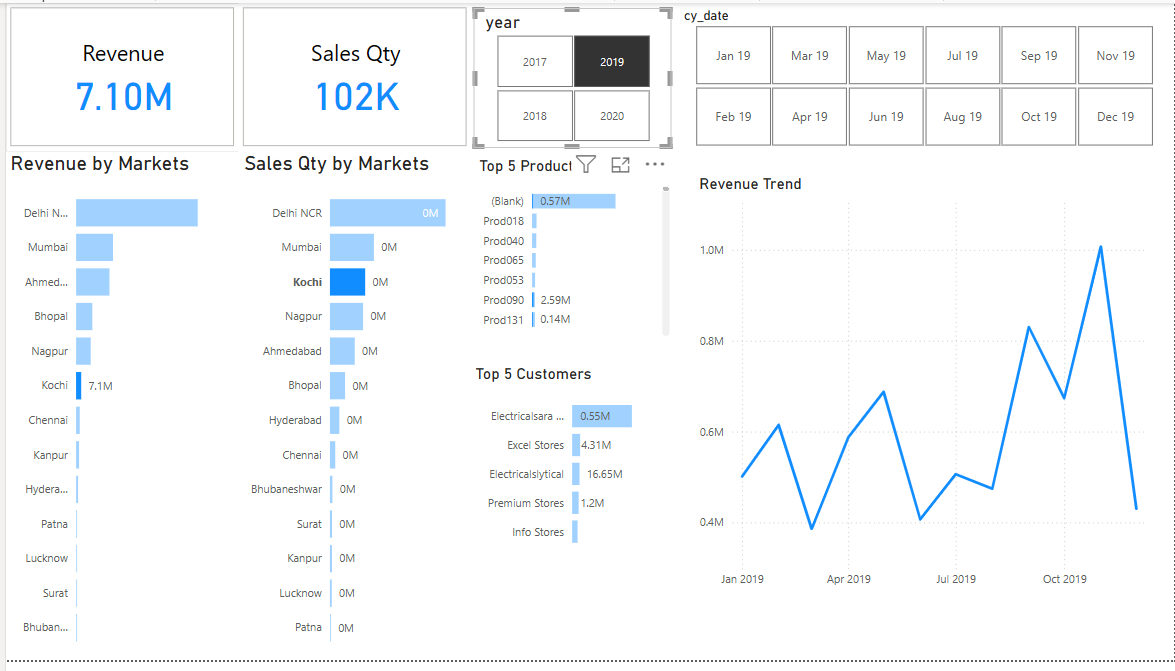

This screenshot's page, from the dashboard's own definition file:
{"tool":"powerbi","page":{"name":"Page 1","canvas":[1280,720],"ordinal":0},"visuals":[{"type":"cardVisual","fields":{"Data":["Base Measures.Revenue"]},"box":[0,0,255.7,162.9],"z":0},{"type":"cardVisual","fields":{"Data":["Base Measures.Sales Qty"]},"box":[254.3,0,255.7,162.9],"z":1000},{"type":"barChart","title":"Revenue by Markets","fields":{"Y":["Base Measures.Revenue"],"Category":["sales markets.markets_name"]},"box":[0,162.9,257.1,557.1],"z":2000},{"type":"barChart","title":"Sales Qty by Markets","fields":{"Category":["sales markets.markets_name"],"Y":["Base Measures.Sales Qty"]},"box":[255.7,162.9,255.7,557.1],"z":3000},{"type":"slicer","fields":{"Values":["sales date.year"]},"box":[511.4,5.7,217.1,152.9],"z":4000},{"type":"slicer","fields":{"Values":["sales date.cy_date"]},"box":[730,0,550,162.9],"z":5000},{"type":"barChart","title":"Top 5 Customers","fields":{"Y":["Base Measures.Revenue"],"Category":["sales customers.custmer_name"]},"box":[510,395.7,218.6,214.3],"z":6000},{"type":"barChart","title":"Top 5 Products","fields":{"Y":["Base Measures.Revenue"],"Category":["sales products.product_code"]},"box":[512.9,168.6,218.6,201.4],"z":7000},{"type":"lineChart","title":"Revenue Trend","fields":{"Y":["Base Measures.Revenue"],"Category":["sales date.cy_date"]},"box":[754.3,187.1,512.9,461.4],"z":8000}]}

Visuals, with their boxes in screenshot pixels (x1, y1, x2, y2), scaled from the page's 1280x720 canvas onto the 1175x671 screenshot:
cardVisual - Base Measures.Revenue: BBox(0, 0, 235, 152)
cardVisual - Base Measures.Sales Qty: BBox(233, 0, 468, 152)
"Revenue by Markets" barChart: BBox(0, 152, 236, 670)
"Sales Qty by Markets" barChart: BBox(235, 152, 469, 670)
slicer - sales date.year: BBox(469, 5, 669, 148)
slicer - sales date.cy_date: BBox(670, 0, 1174, 152)
"Top 5 Customers" barChart: BBox(468, 369, 669, 568)
"Top 5 Products" barChart: BBox(471, 157, 671, 345)
"Revenue Trend" lineChart: BBox(692, 174, 1163, 604)
